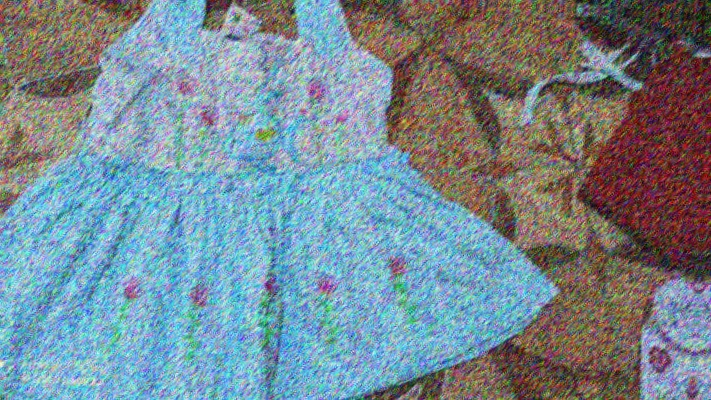Dress: (0, 0, 570, 400), (6, 0, 597, 5), (0, 399, 544, 400)
